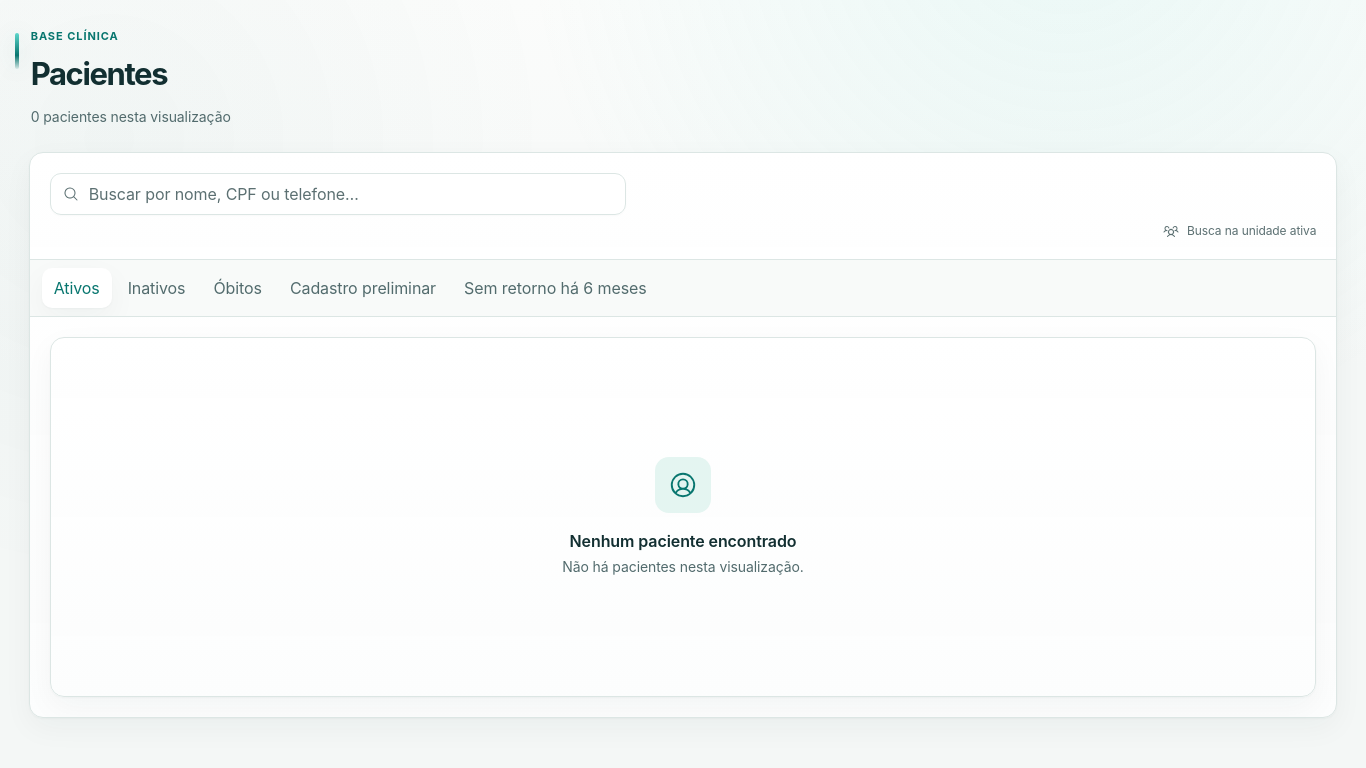
Test case: tela Pacientes › mostra estado vazio com mensagem personalizada para busca
The image size is (1366, 768).
Expected: the text "Nenhum paciente encontrado" is shown, [570,529,796,553]
Type "xyz" into the field named "Buscar pacientes".
click(351, 194); type("xyz")  # box [89,174,613,214]
Wait 350 ms
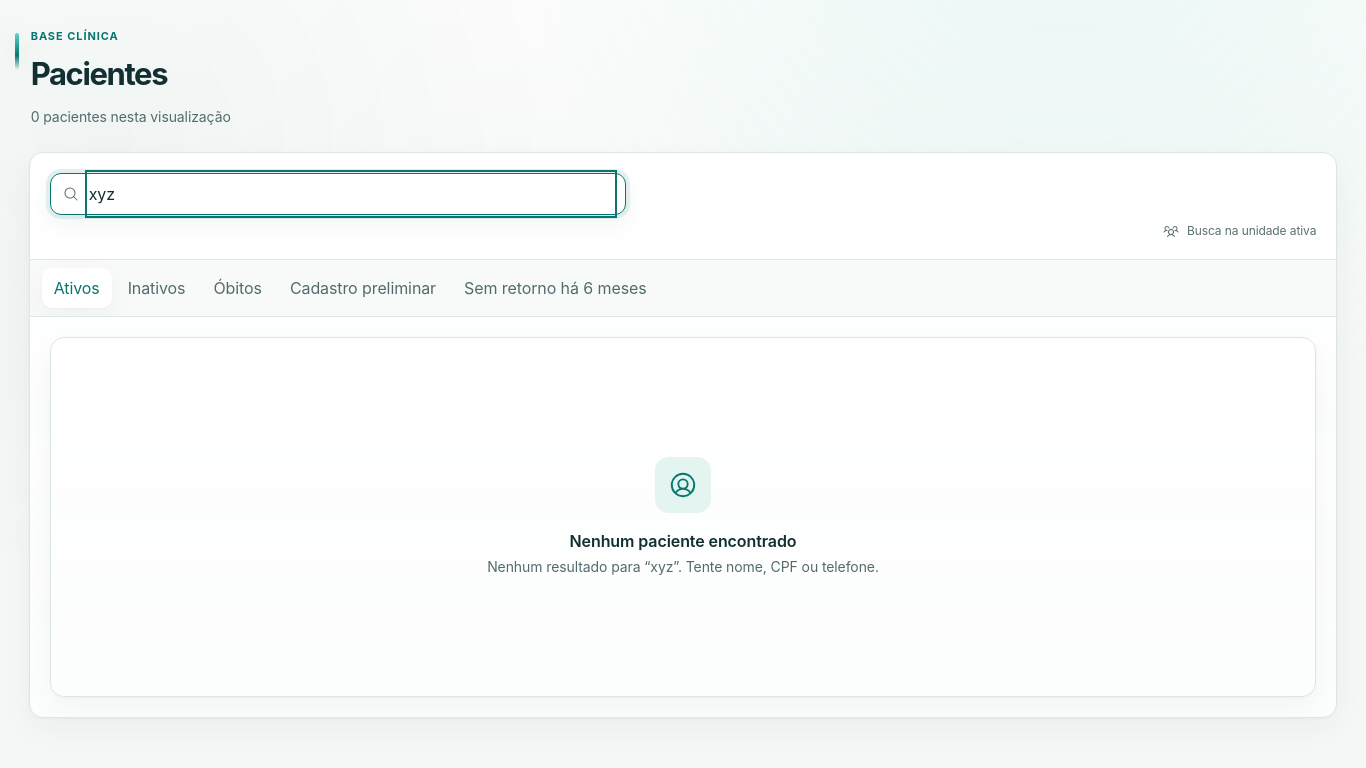
Expected: the text "Nenhum resultado para “xyz”. Tente nome, CPF ou telefone." is shown, [487,557,879,577]
